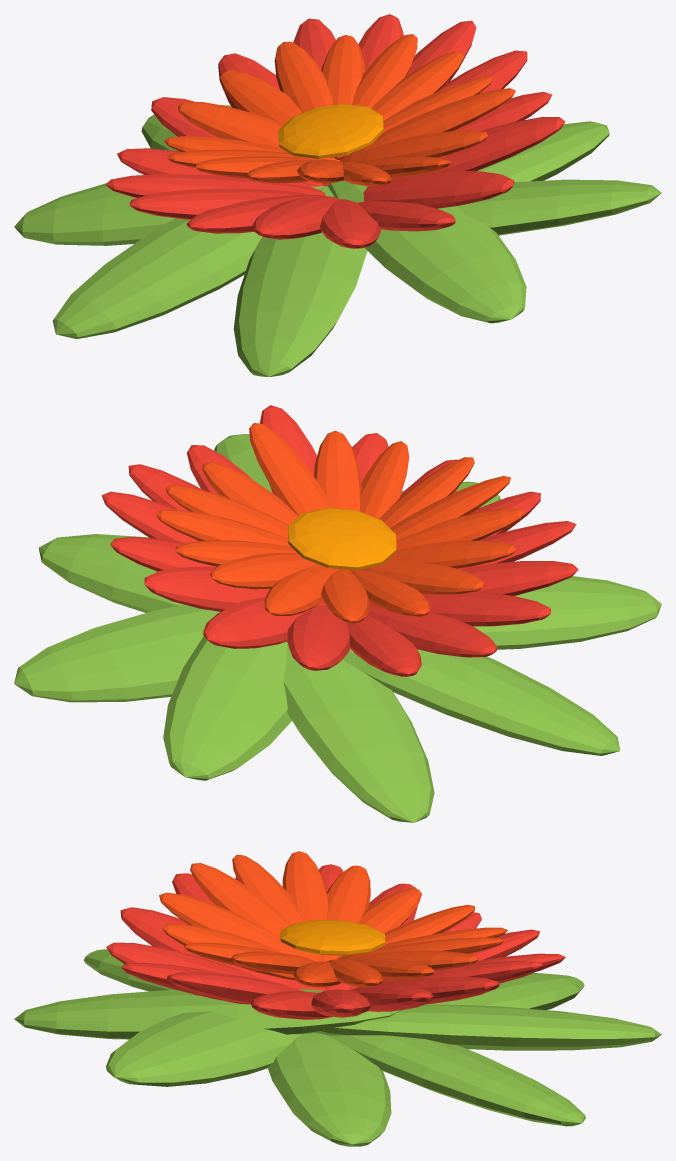
The model's file is flower3.glb.
The picture shows the model from 3 angles, top to bottom: view 1: azimuth 30°, elevation 25°; view 2: azimuth 150°, elevation 25°; view 3: azimuth 270°, elevation 25°; orthographic projection. The views are drawn at different scales.
Visible parts, largest first — view 1: group944816188, group188798714, group1839826889, group2131516043, group73797501, group1927753052, group921889704, group1139189315, group469233564, group1643482740, group557396637, group2134551609 (+28 smaller); view 2: group73797501, group379709356, group188798714, group947692582, group944816188, group1139189315, group1927753052, group1643482740, group2134551609, group717735966, group557396637, group1028257249 (+27 smaller); view 3: group379709356, group2131516043, group947692582, group1139189315, group1839826889, group1927753052, group73797501, group67722350, group935998492, group469233564, group2004113164, group429203220 (+25 smaller).
Part boxes in pixels (x1=…): group944816188: x1=233, y1=186, x2=367, y2=376; group188798714: x1=53, y1=186, x2=323, y2=338; group1839826889: x1=328, y1=180, x2=526, y2=323; group2131516043: x1=456, y1=179, x2=661, y2=235; group73797501: x1=14, y1=174, x2=175, y2=245; group1927753052: x1=278, y1=104, x2=383, y2=158; group921889704: x1=363, y1=171, x2=514, y2=208; group1139189315: x1=476, y1=121, x2=609, y2=182; group469233564: x1=391, y1=117, x2=565, y2=180; group1643482740: x1=351, y1=88, x2=515, y2=154; group557396637: x1=129, y1=188, x2=311, y2=219; group2134551609: x1=105, y1=174, x2=325, y2=197; group73797501: x1=283, y1=641, x2=434, y2=822; group379709356: x1=163, y1=636, x2=291, y2=780; group188798714: x1=342, y1=649, x2=620, y2=755; group947692582: x1=14, y1=604, x2=220, y2=702; group944816188: x1=473, y1=576, x2=661, y2=649; group1139189315: x1=38, y1=534, x2=183, y2=612; group1927753052: x1=288, y1=507, x2=396, y2=570; group1643482740: x1=249, y1=423, x2=329, y2=516; group2134551609: x1=367, y1=602, x2=497, y2=657; group717735966: x1=203, y1=597, x2=325, y2=648; group557396637: x1=421, y1=591, x2=550, y2=626; group1028257249: x1=144, y1=566, x2=269, y2=611; group379709356: x1=315, y1=1004, x2=661, y2=1050; group2131516043: x1=106, y1=1011, x2=301, y2=1086; group947692582: x1=328, y1=1035, x2=585, y2=1126; group1139189315: x1=267, y1=1033, x2=391, y2=1146; group1839826889: x1=14, y1=989, x2=401, y2=1039; group1927753052: x1=280, y1=920, x2=385, y2=955; group73797501: x1=424, y1=973, x2=584, y2=1009; group67722350: x1=190, y1=863, x2=317, y2=961; group935998492: x1=159, y1=892, x2=307, y2=958; group469233564: x1=167, y1=972, x2=303, y2=1004; group2004113164: x1=282, y1=851, x2=328, y2=921; group429203220: x1=120, y1=907, x2=302, y2=989.
Bounding box in the file's own units: 0.4748 × 0.1525 × 0.4856.
